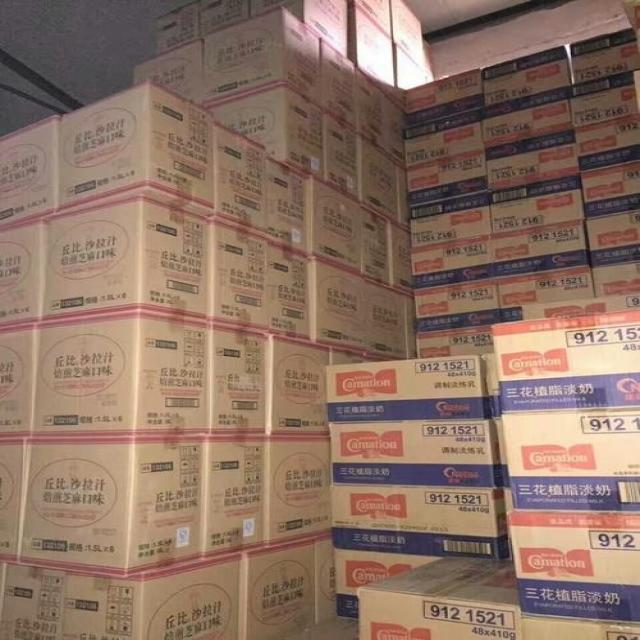box: (18, 436, 207, 577), (31, 309, 210, 438), (0, 550, 250, 640), (56, 80, 215, 217), (40, 195, 205, 320), (492, 310, 640, 415), (507, 512, 640, 623), (502, 410, 640, 514), (358, 557, 521, 640), (332, 486, 511, 559), (202, 83, 326, 182), (202, 6, 321, 108), (328, 419, 504, 487), (325, 355, 492, 423), (202, 435, 269, 558), (239, 537, 319, 640), (415, 322, 499, 420), (333, 550, 445, 619), (205, 215, 269, 329), (268, 435, 330, 545), (0, 114, 59, 226), (210, 321, 266, 435), (266, 333, 329, 434), (216, 120, 269, 237), (303, 175, 364, 276), (489, 173, 585, 233), (490, 219, 589, 277), (250, 0, 349, 58), (485, 130, 579, 191), (483, 86, 573, 147), (497, 266, 594, 322), (484, 44, 571, 106), (310, 256, 364, 355), (0, 217, 47, 328), (134, 35, 202, 106), (404, 67, 484, 127), (0, 320, 40, 439), (411, 235, 493, 291), (404, 107, 483, 165), (407, 149, 486, 207), (410, 192, 490, 249), (415, 278, 499, 330), (348, 8, 396, 97), (0, 438, 33, 567), (568, 69, 640, 128), (269, 239, 310, 340), (570, 27, 640, 83), (268, 157, 308, 254), (575, 114, 640, 172), (320, 38, 358, 132), (360, 134, 399, 224), (323, 110, 360, 203), (580, 161, 640, 218), (365, 280, 407, 360), (522, 293, 640, 321), (586, 209, 640, 267), (355, 64, 388, 154), (362, 205, 392, 287), (155, 2, 201, 55), (392, 0, 425, 72), (315, 533, 338, 623), (388, 221, 413, 295), (200, 0, 250, 36), (591, 262, 640, 298), (349, 0, 393, 39)
